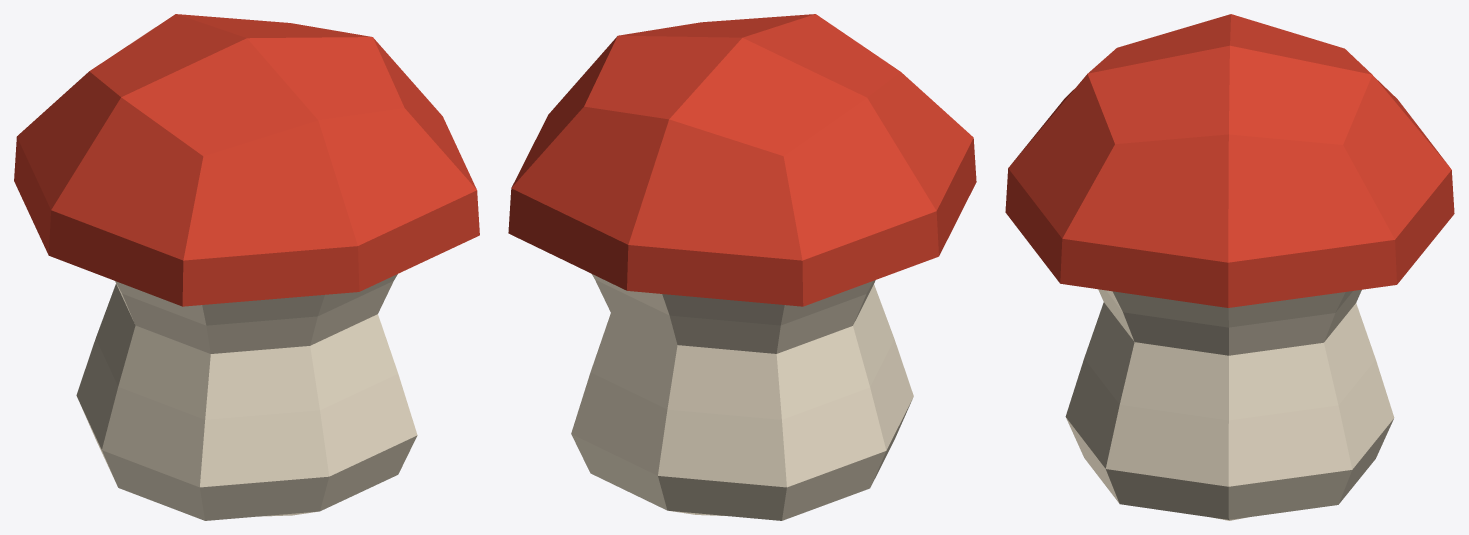
Rendered from mushroom-a.glb.
The picture shows the model from 3 angles, left to right: view 1: azimuth 30°, elevation 25°; view 2: azimuth 150°, elevation 25°; view 3: azimuth 270°, elevation 25°; orthographic projection.
Parts seen in each view (by area): view 1: Mushroom_1; view 2: Mushroom_1; view 3: Mushroom_1.
Part boxes in pixels (box(x1,y1,x2,y2)): Mushroom_1: box(14, 14, 479, 520); Mushroom_1: box(508, 14, 976, 520); Mushroom_1: box(1005, 14, 1454, 520).
Size of the model in its own units: 0.6402 by 0.7 by 0.6402.
